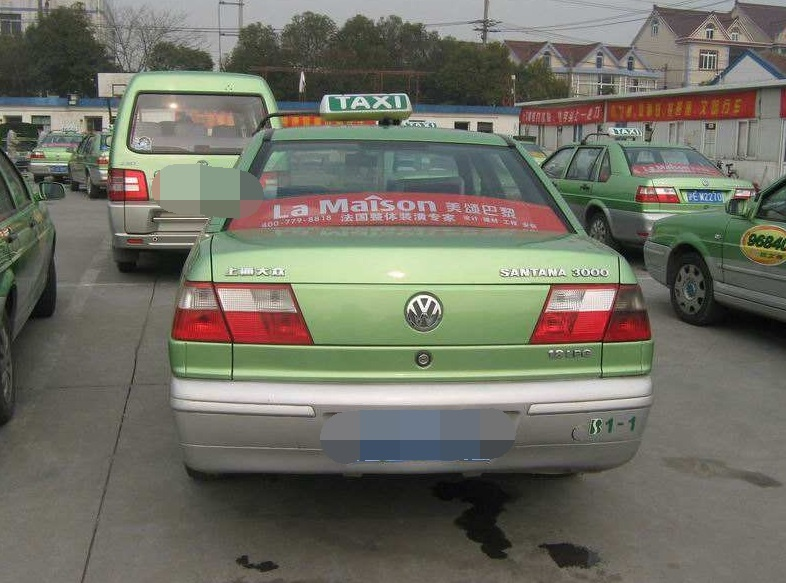minibus: (100, 65, 281, 247)
taxi: (163, 103, 652, 477), (535, 112, 752, 255)
